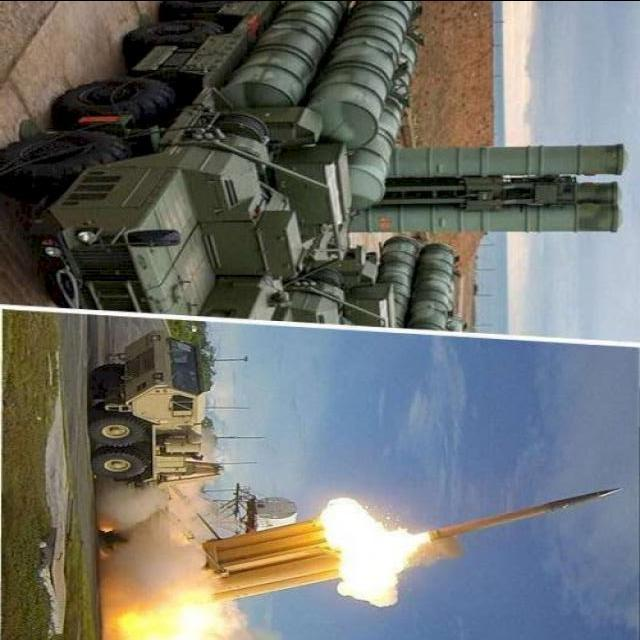Missile: (421, 483, 627, 549)
